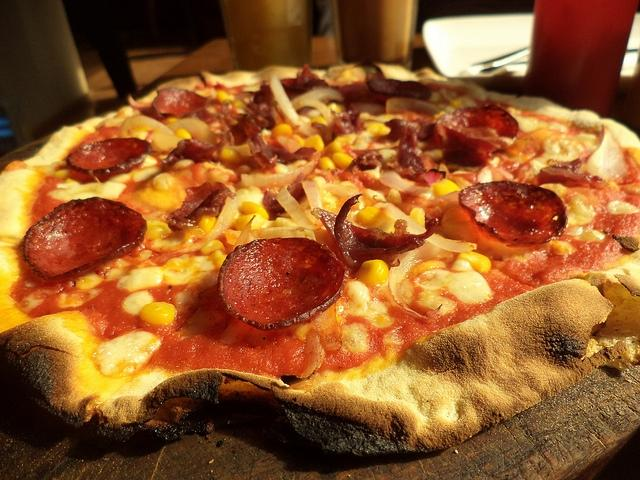corn: (354, 260, 389, 286), (140, 302, 176, 324), (458, 251, 491, 272), (234, 213, 266, 232), (412, 260, 447, 276), (432, 179, 461, 198), (241, 202, 269, 220), (356, 206, 381, 226), (213, 147, 241, 164), (76, 273, 103, 290), (200, 239, 226, 256), (551, 241, 578, 256), (198, 215, 218, 235), (573, 230, 606, 242), (152, 173, 175, 190), (270, 124, 294, 140), (410, 206, 426, 230), (163, 257, 190, 271), (332, 152, 354, 169), (304, 134, 324, 152), (366, 122, 391, 136), (130, 126, 154, 140), (146, 226, 166, 240), (387, 189, 402, 205), (309, 176, 327, 189), (320, 157, 336, 171), (307, 117, 329, 127), (174, 128, 192, 140), (206, 250, 224, 262), (327, 141, 344, 153), (217, 90, 230, 104), (328, 102, 342, 114), (450, 97, 464, 109), (607, 180, 620, 191), (434, 111, 445, 119)
onion: (366, 188, 477, 253), (389, 239, 467, 323), (162, 196, 238, 254), (578, 125, 628, 183), (270, 73, 312, 126), (276, 184, 322, 232), (378, 170, 436, 200), (166, 118, 218, 147), (116, 114, 176, 138), (298, 98, 334, 132), (301, 179, 324, 227), (233, 215, 256, 249), (543, 142, 579, 162), (298, 153, 320, 183), (298, 88, 344, 102), (237, 194, 266, 214)
